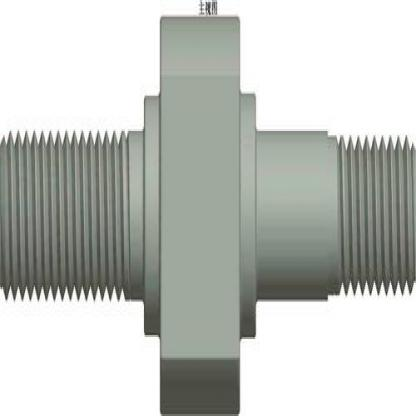FOD: (0, 12, 242, 412)
